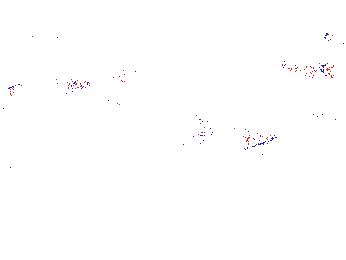X-ray fish: (22, 49, 74, 78), (52, 214, 91, 238), (24, 23, 61, 45)
glassfish: (154, 123, 279, 155), (5, 75, 93, 98)
red belly glassfish: (193, 110, 227, 129), (113, 56, 129, 83)
redtail glassfish: (262, 55, 335, 80), (308, 107, 346, 127), (320, 29, 346, 47)
